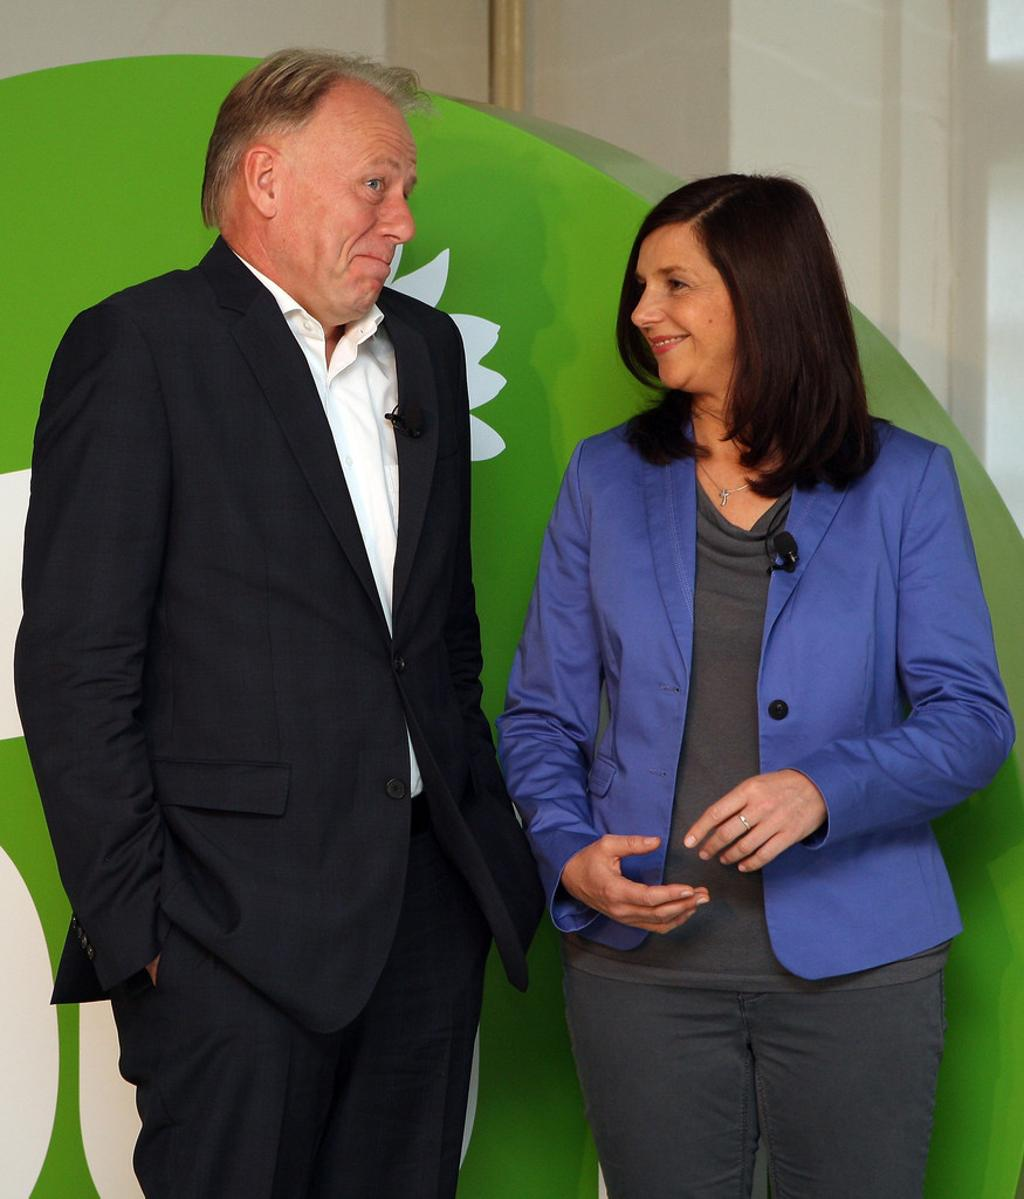face: (283, 105, 419, 325), (631, 231, 734, 392)
